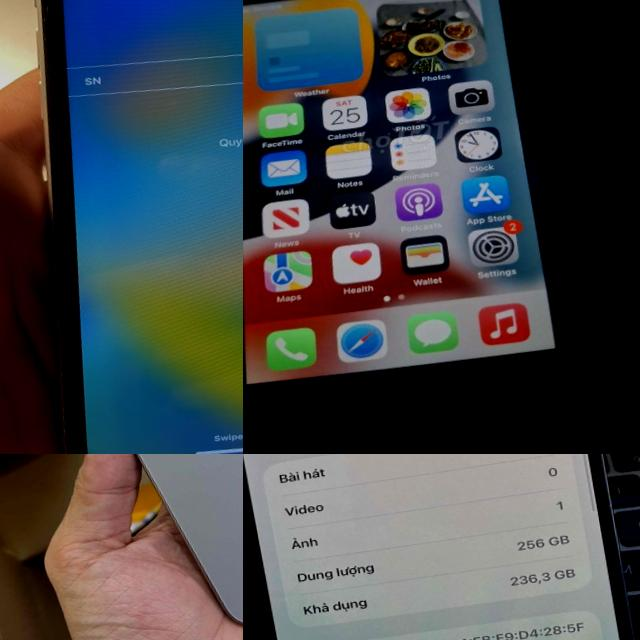physical_damage: (136, 120, 166, 176)
